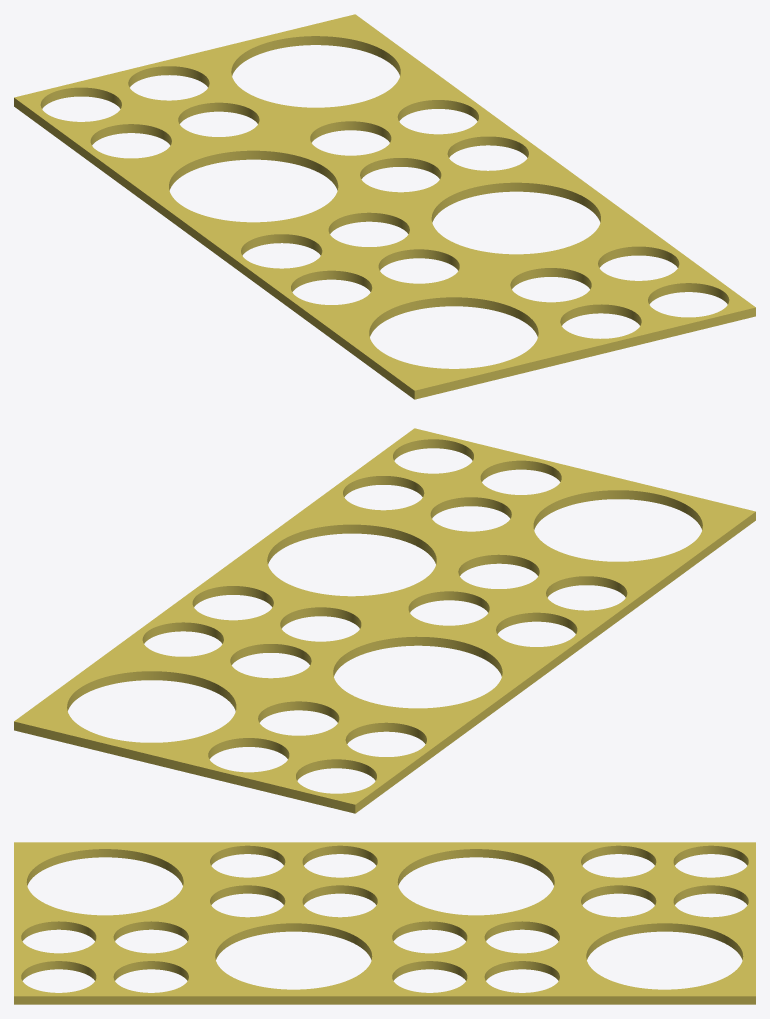
Rendered from STYLE 35.glb.
The picture shows the model from 3 angles, top to bottom: view 1: azimuth 30°, elevation 25°; view 2: azimuth 150°, elevation 25°; view 3: azimuth 270°, elevation 25°; orthographic projection. The views are drawn at different scales.
Visible parts, largest first — view 1: STYLE 35; view 2: STYLE 35; view 3: STYLE 35.
Part boxes in pixels (<box>): STYLE 35: <box>14,14,755,399</box>; STYLE 35: <box>14,428,755,813</box>; STYLE 35: <box>14,842,755,1004</box>.
Bounding box in the file's own units: 4.92 × 0.1236 × 10.
